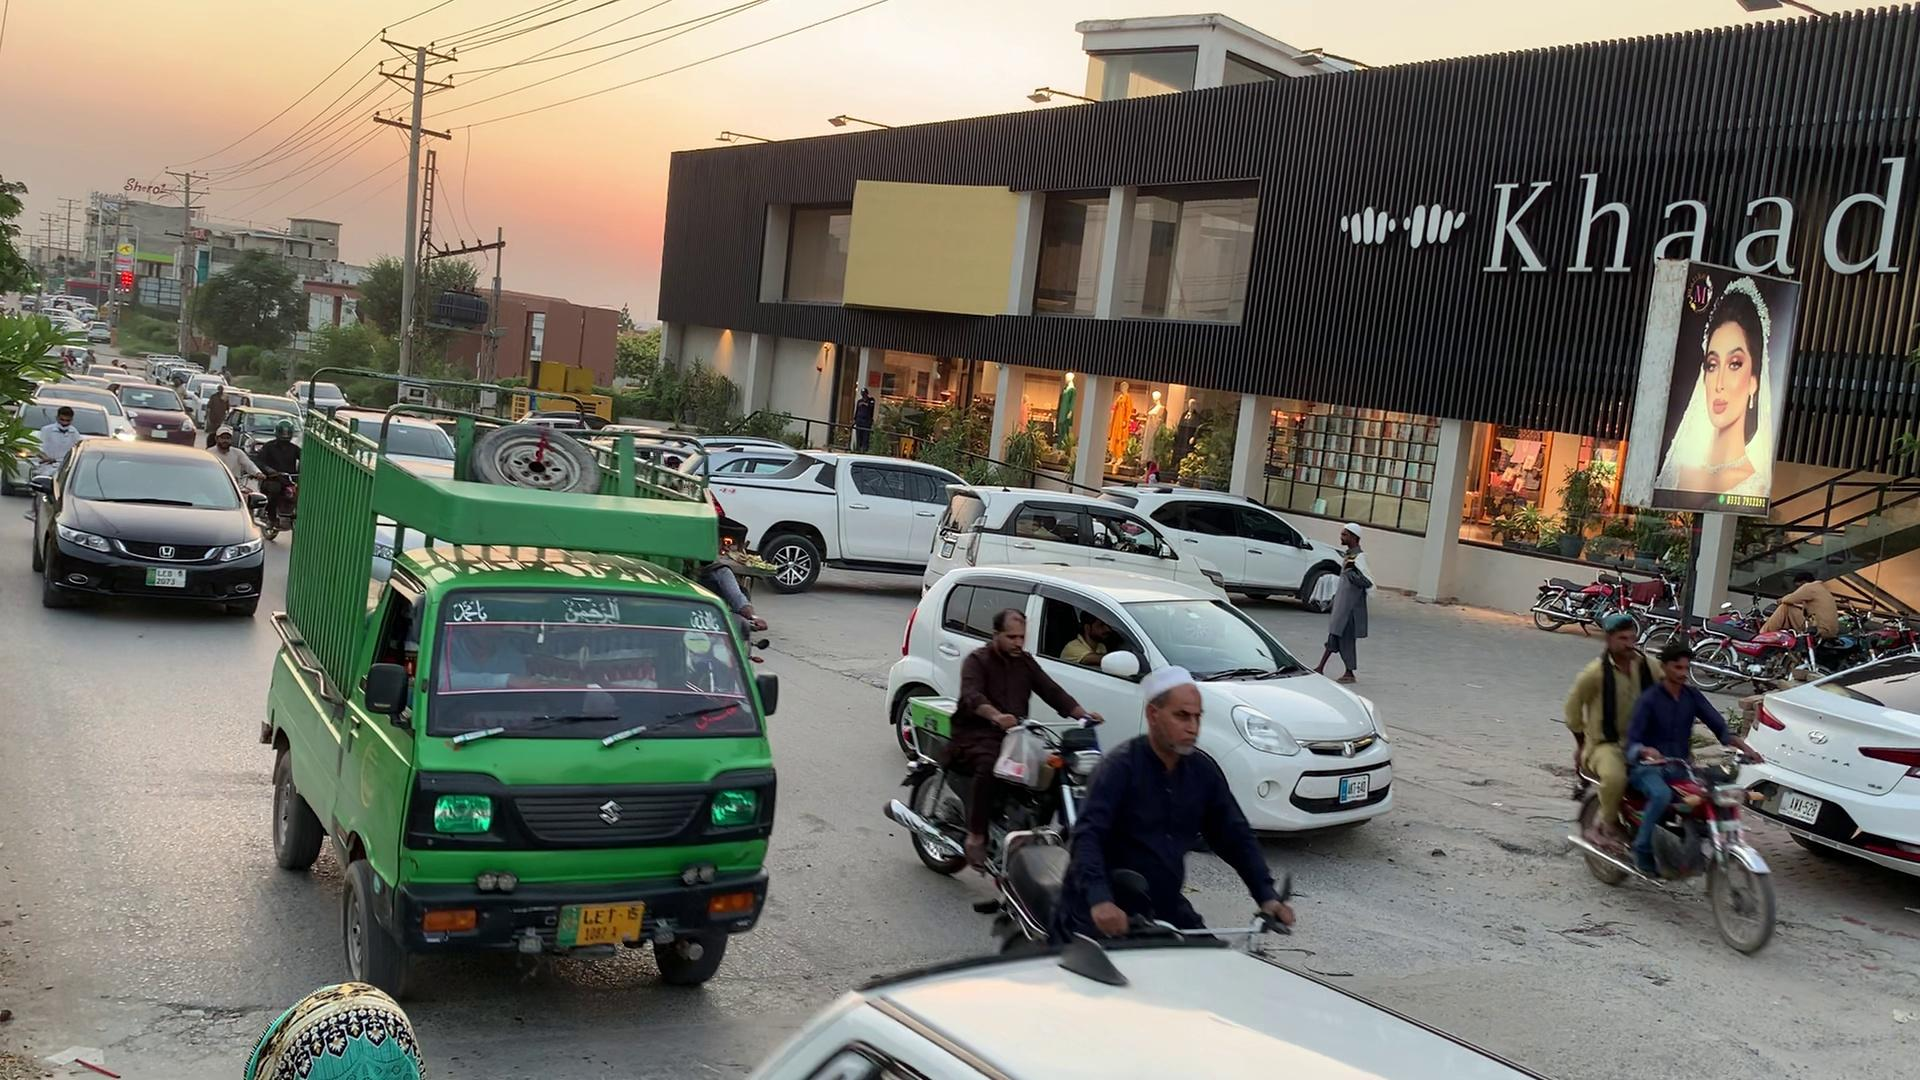windshield: (421, 596, 770, 753), (1114, 593, 1311, 680), (65, 448, 255, 516)
